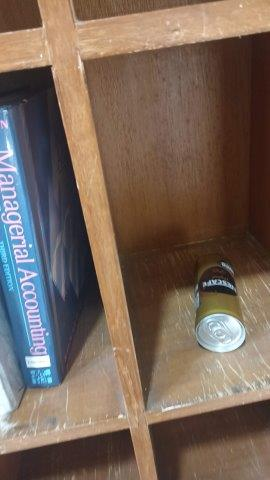kaleng: (192, 253, 246, 355)
